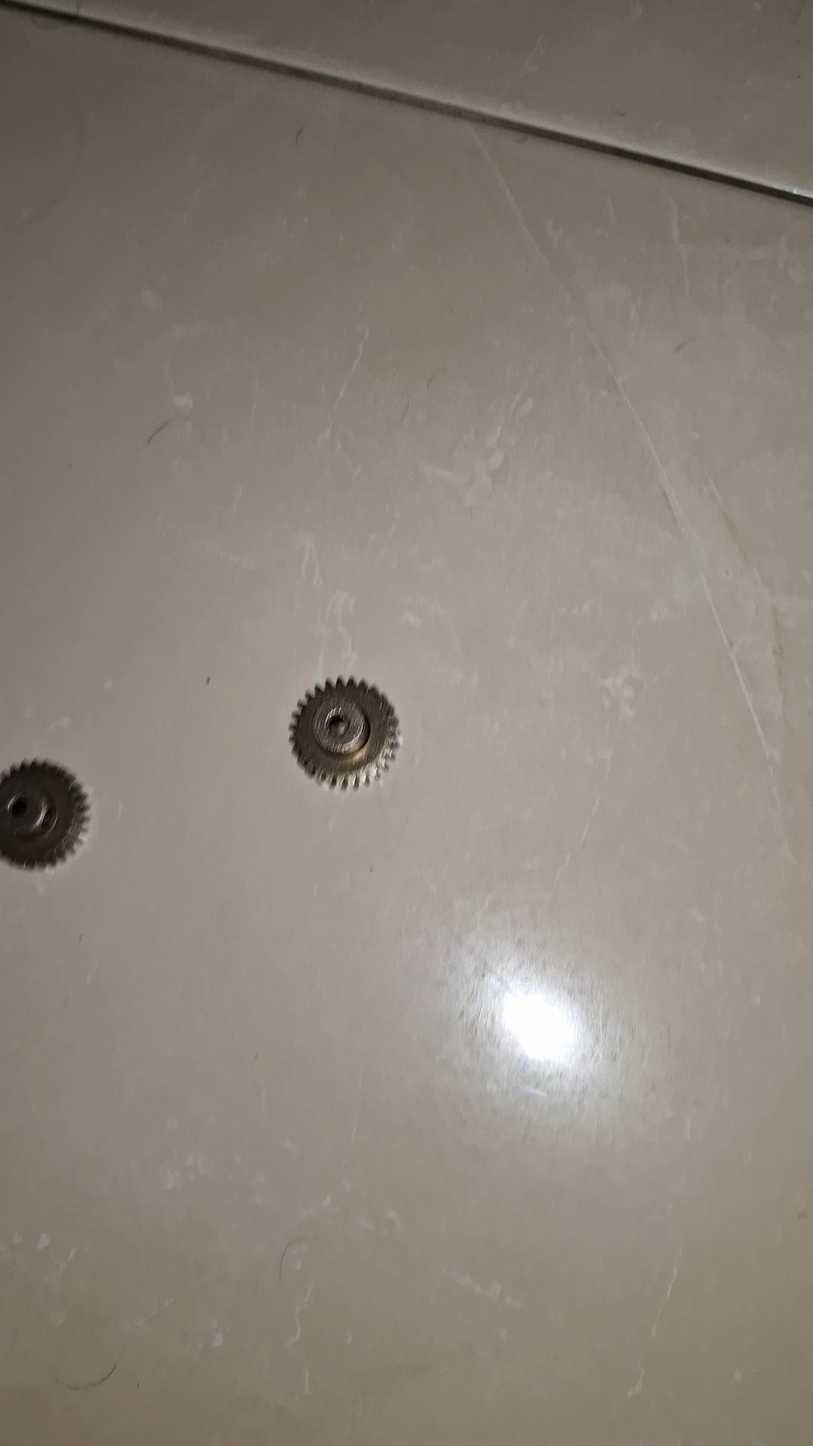spur gear: (291, 678, 400, 789), (0, 760, 88, 868)
